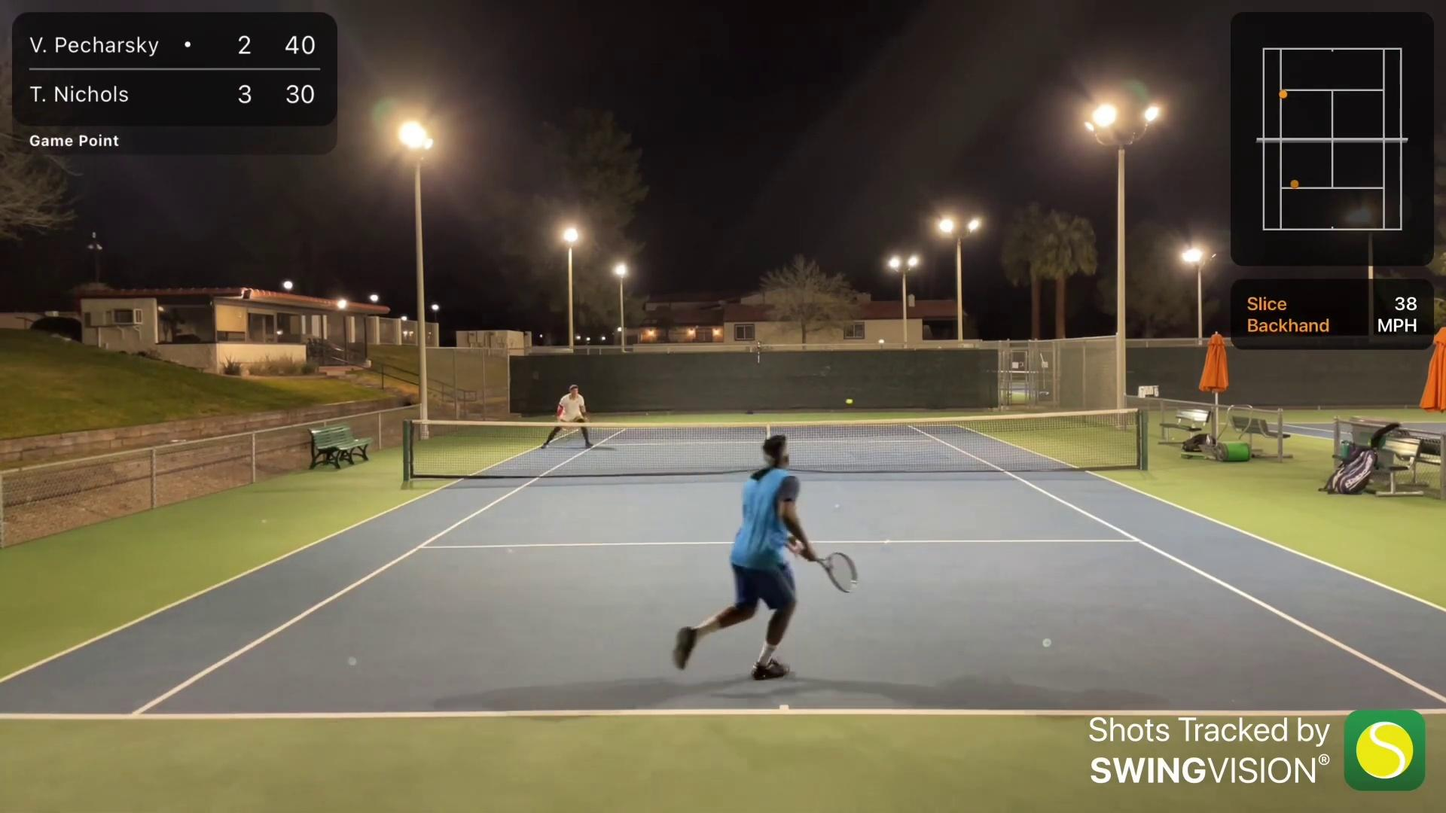ball: (849, 398, 854, 405)
